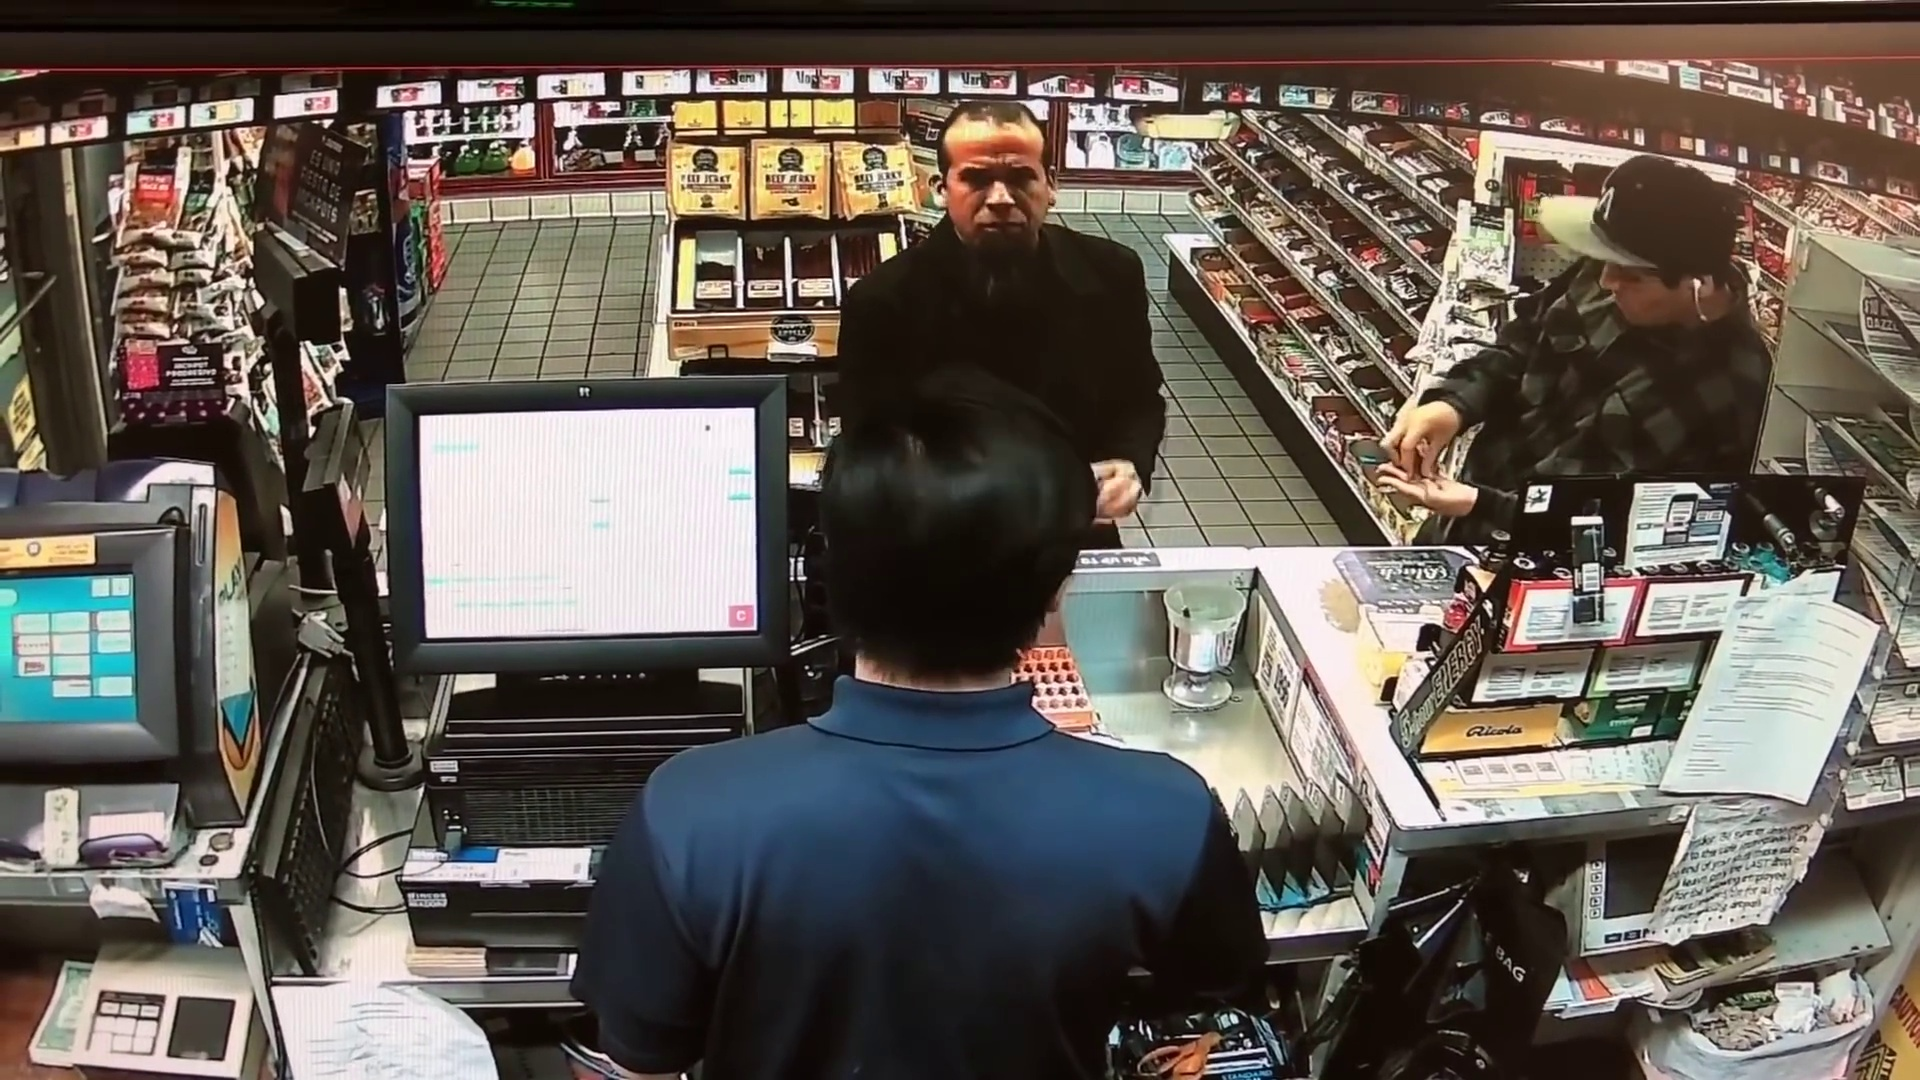face: (940, 125, 1059, 248), (1596, 238, 1709, 339)
